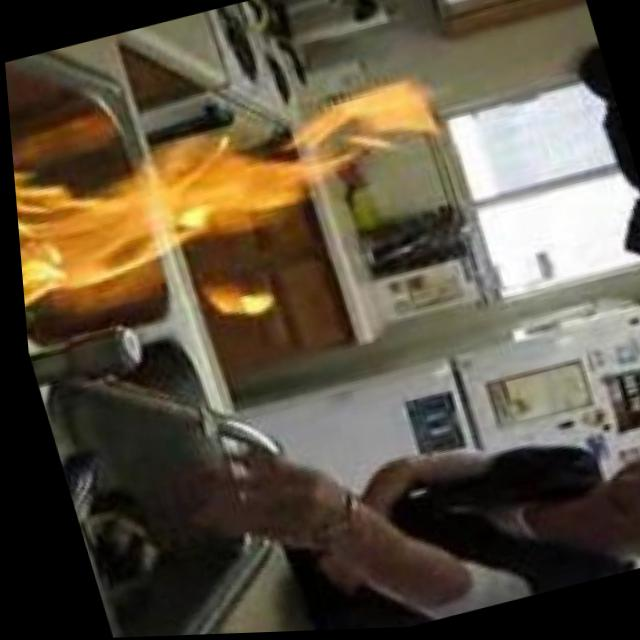Fire: (5, 72, 456, 314), (188, 275, 273, 329)
